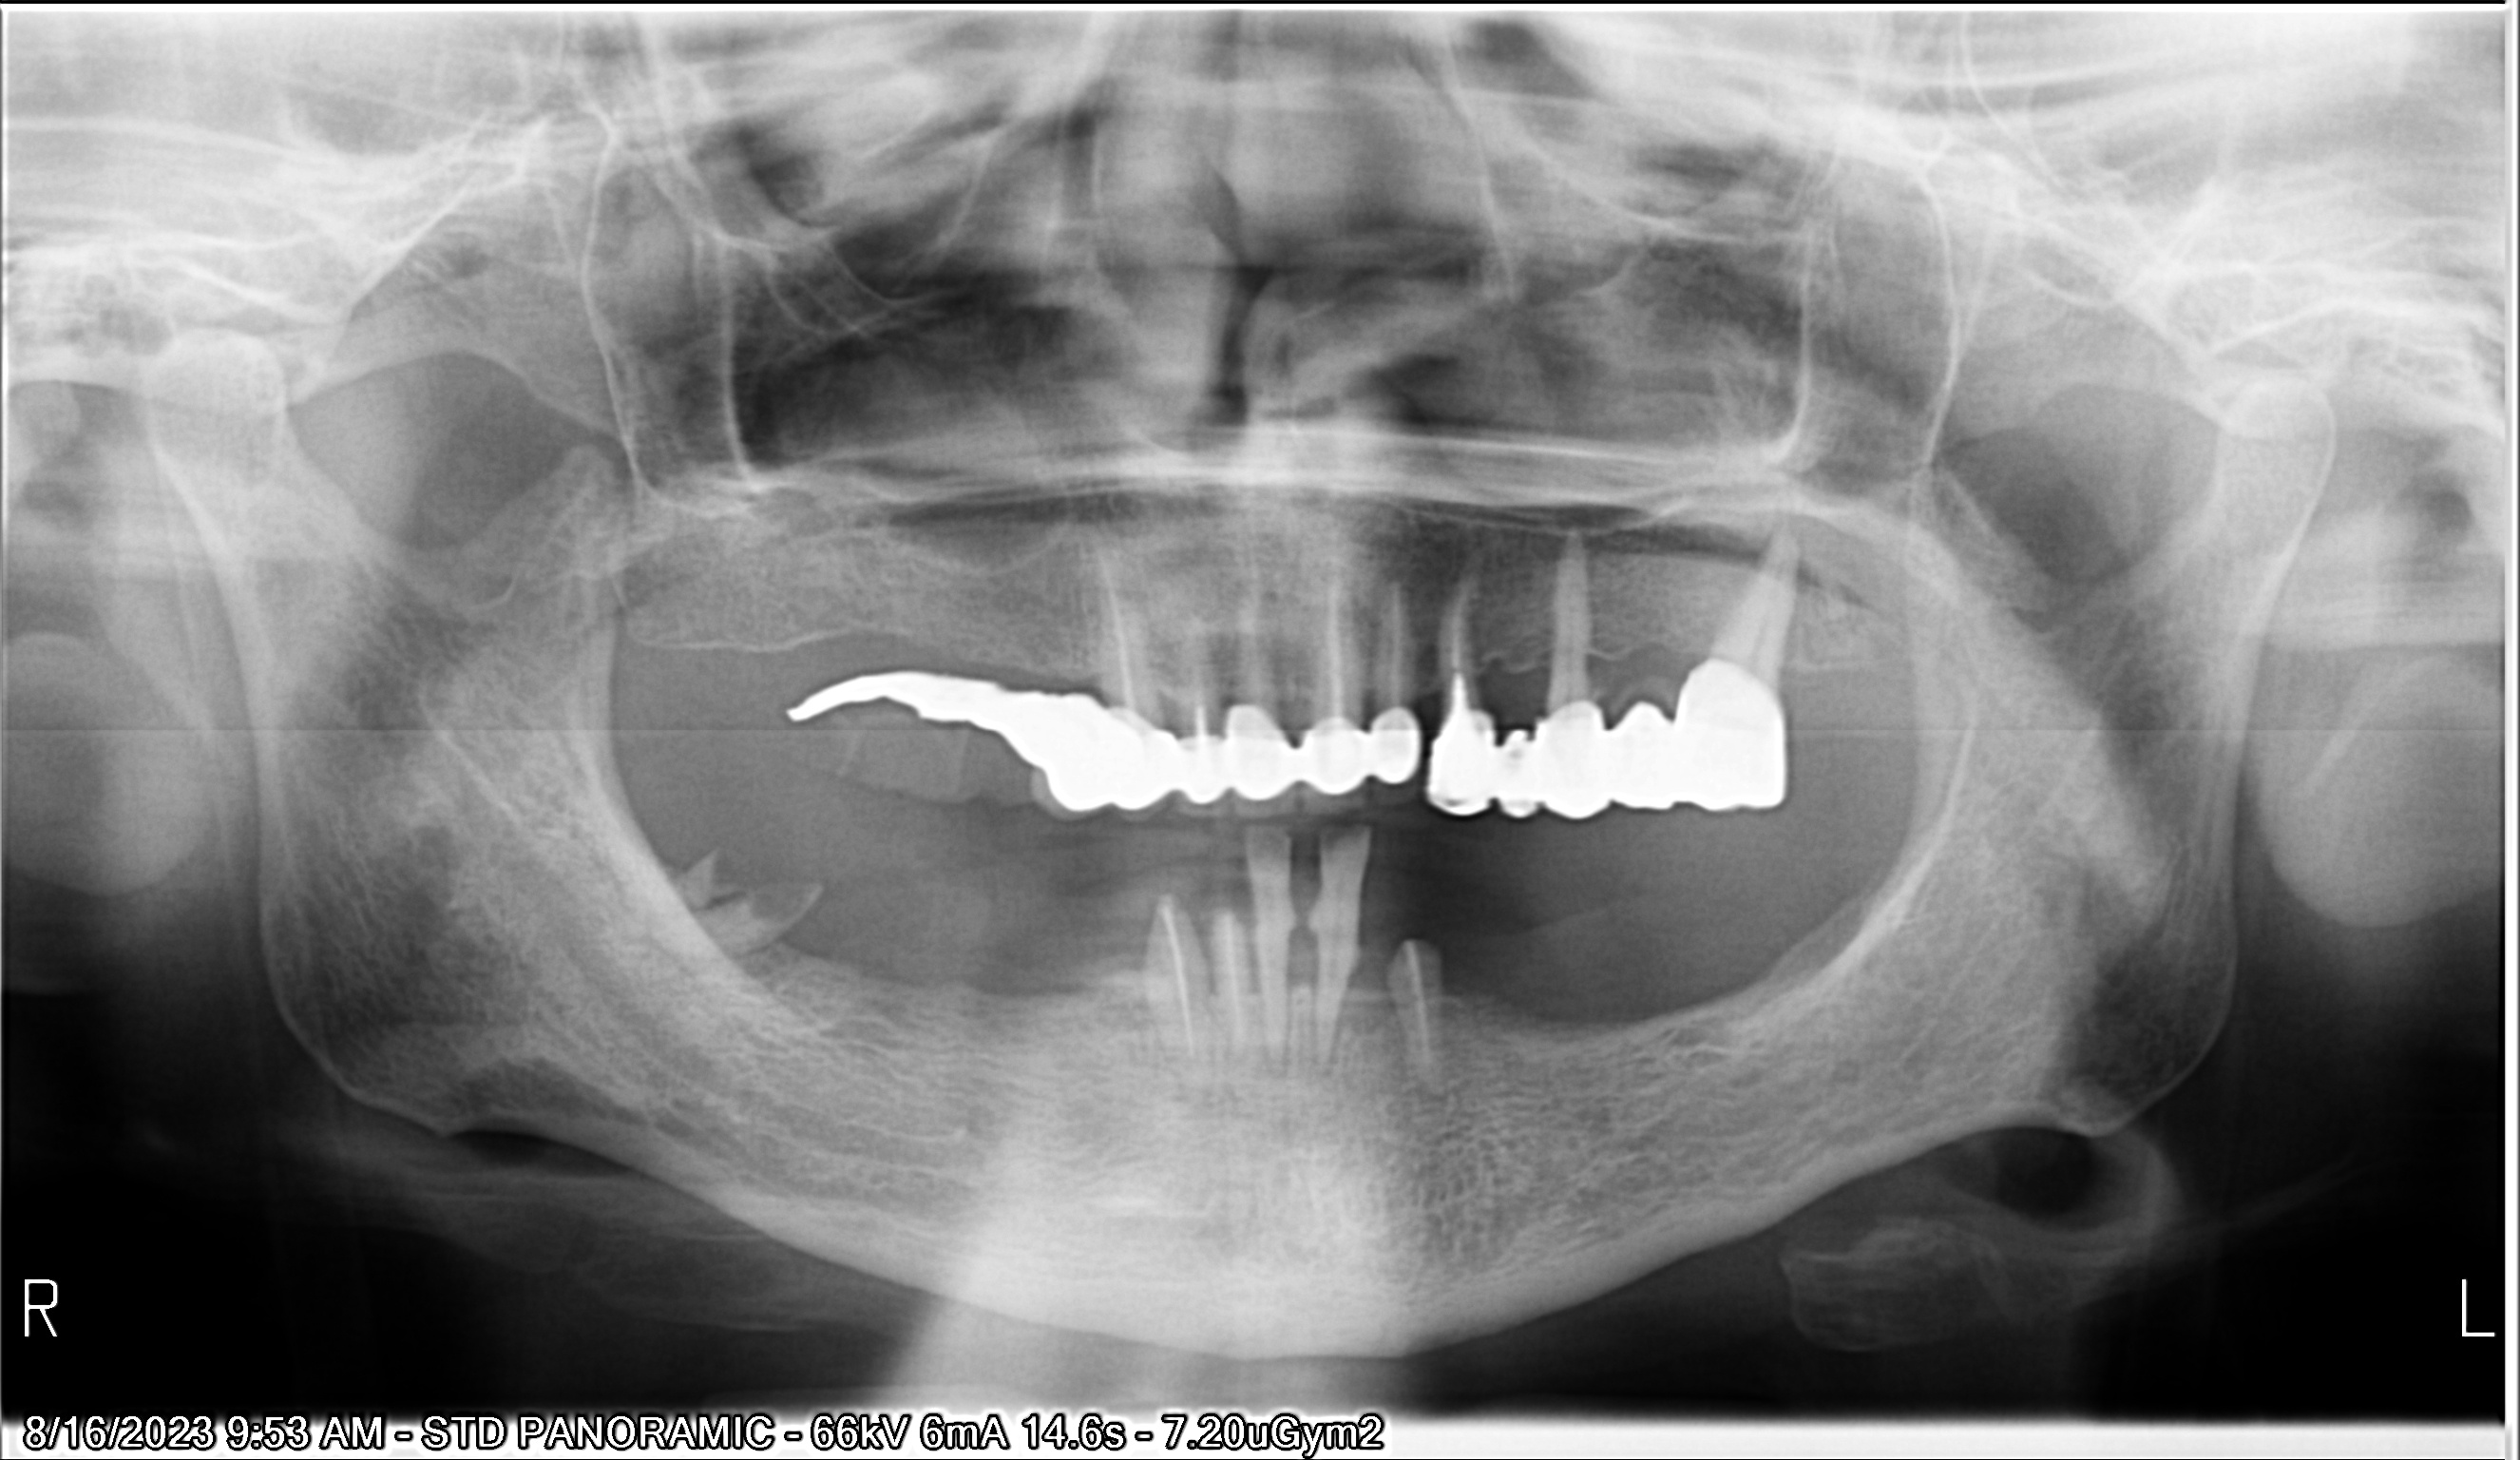BON: (672, 415, 2171, 1446), (641, 410, 2044, 1434), (603, 401, 1942, 1418), (794, 254, 2520, 944), (526, 415, 1695, 1434), (750, 264, 2376, 975), (703, 276, 2233, 984)
END: (698, 219, 2174, 923), (670, 200, 2088, 925), (630, 196, 1992, 919), (568, 245, 1799, 989), (521, 162, 1671, 885)
PRR: (762, 226, 2520, 1053), (585, 280, 2258, 1105), (71, 252, 1495, 1076)
ROT: (653, 379, 2114, 1460), (556, 368, 1832, 1427), (528, 328, 1742, 1427), (255, 375, 1091, 1363), (257, 360, 1014, 1288)
